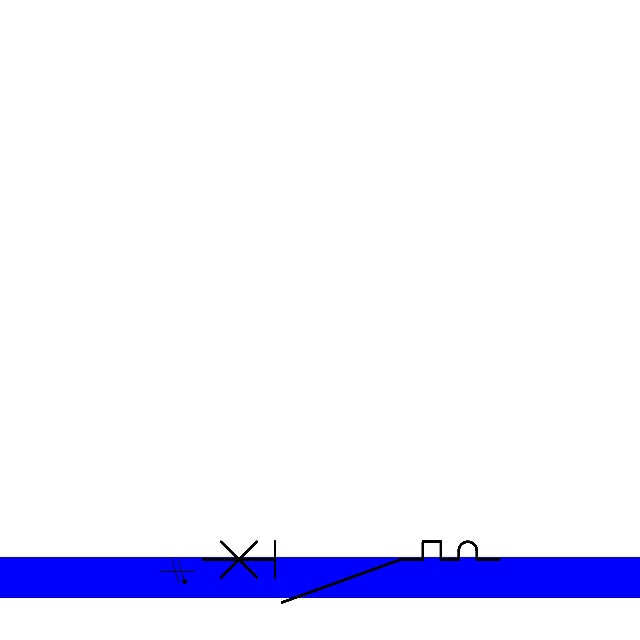interruptor_termomagnetico: (195, 534, 506, 610)
